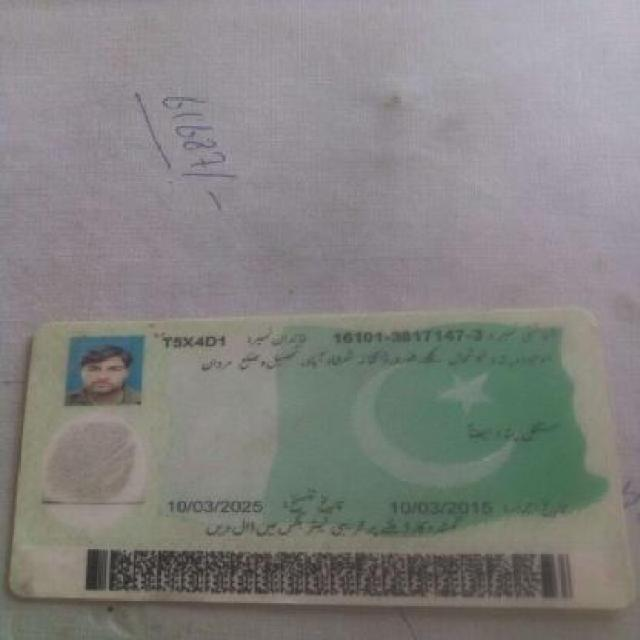Back: (3, 309, 623, 608)
